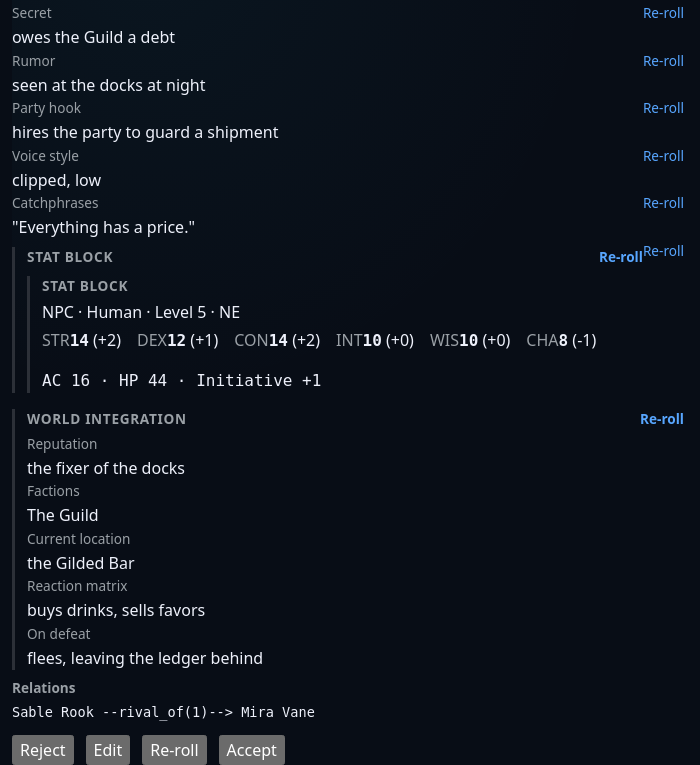
CandidatesView › a failed accept keeps the row and renders the error on the card
(page scrolled)
Click the button "Accept" at (252, 750), box [219, 735, 285, 764]
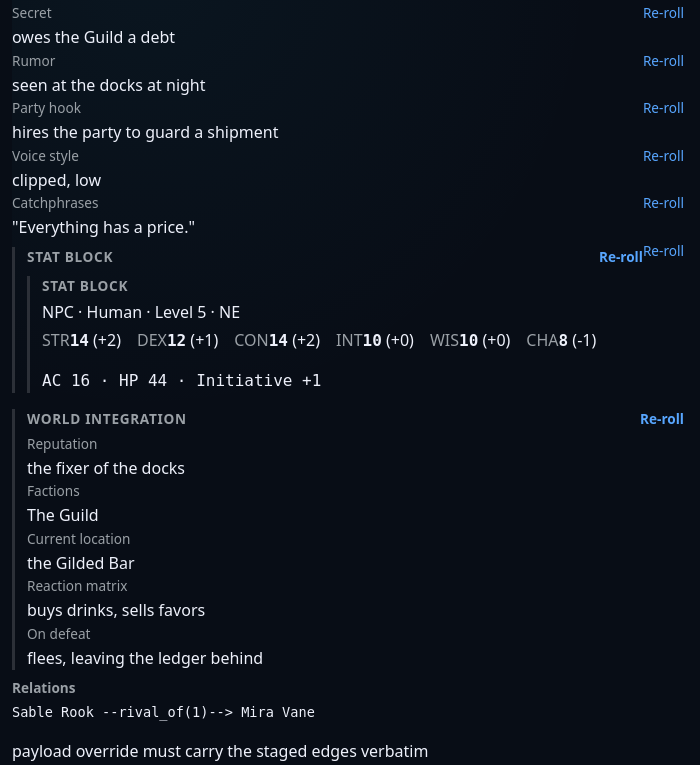
Result: the text "payload override must carry the staged edges verbatim" is shown at [12, 740, 428, 762]
